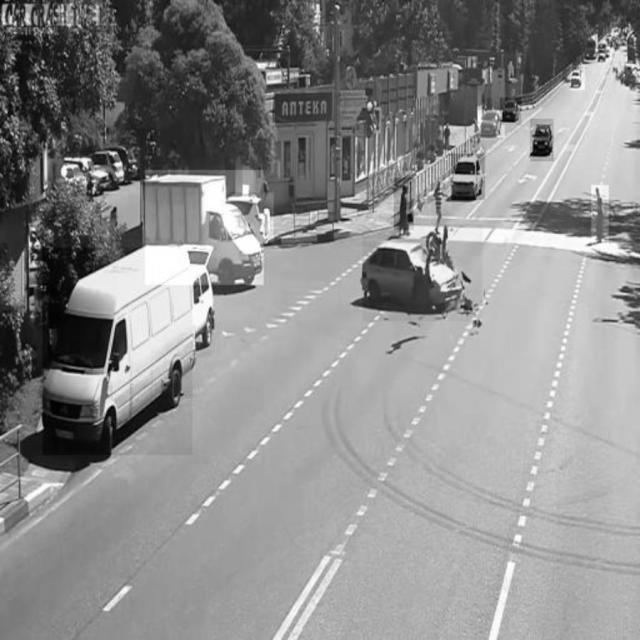accident: (362, 224, 483, 322)
person: (592, 184, 609, 248), (432, 169, 449, 233), (394, 178, 414, 230)
vehicle: (43, 248, 193, 455), (145, 170, 263, 286), (225, 193, 273, 243), (451, 154, 485, 200), (90, 151, 125, 186), (530, 120, 554, 162), (478, 110, 505, 137), (500, 98, 520, 125), (570, 65, 586, 90)
